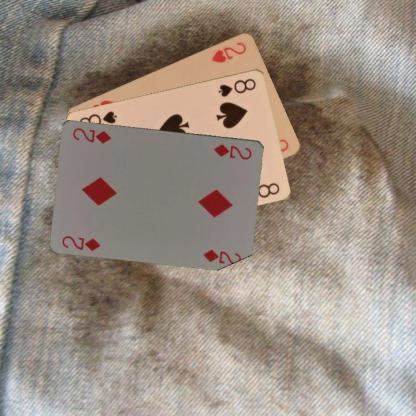2d: (211, 141, 254, 161), (60, 233, 102, 252)
2h: (209, 38, 248, 64)
8s: (216, 75, 258, 98)
